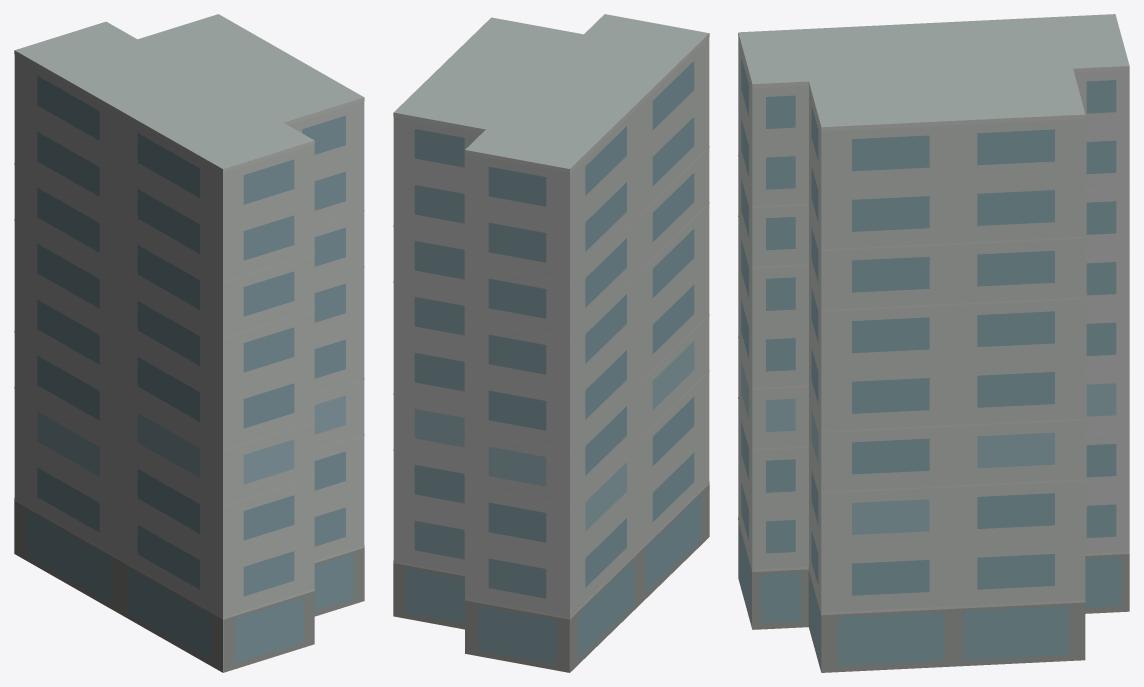
File: survey-upis-32733622.glb
The picture shows the model from 3 angles, left to right: view 1: azimuth 30°, elevation 25°; view 2: azimuth 150°, elevation 25°; view 3: azimuth 270°, elevation 25°; orthographic projection. The views are drawn at different scales.
Parts seen in each view (by area): view 1: survey-upis-32733622.tmp; view 2: survey-upis-32733622.tmp; view 3: survey-upis-32733622.tmp.
Part boxes in pixels (bbox=[...]): survey-upis-32733622.tmp: bbox=[14, 14, 364, 672]; survey-upis-32733622.tmp: bbox=[393, 14, 709, 672]; survey-upis-32733622.tmp: bbox=[738, 14, 1129, 672].
Size of the model in its own units: 13.65 by 30.6 by 19.92.
